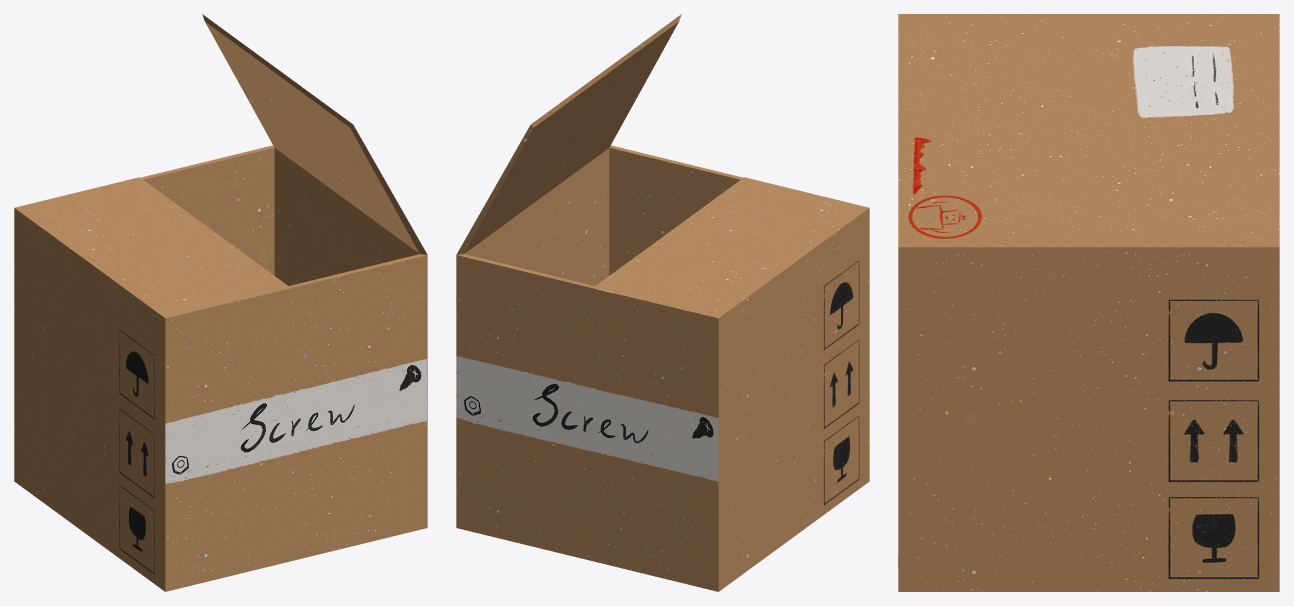
3 renders of one model, left to right at view 1: azimuth 30°, elevation 25°; view 2: azimuth 150°, elevation 25°; view 3: azimuth 270°, elevation 25°, orthographic. The views are drawn at different scales.
Visible parts, largest first — view 1: Cube; view 2: Cube; view 3: Cube.
Part boxes in pixels (left/top/right/bottom): Cube: left=14, top=14, right=427, bottom=591; Cube: left=456, top=14, right=869, bottom=591; Cube: left=898, top=14, right=1279, bottom=591.
Bounding box in the file's own units: 100 × 154 × 99.7.
1 material, 1 textured.
